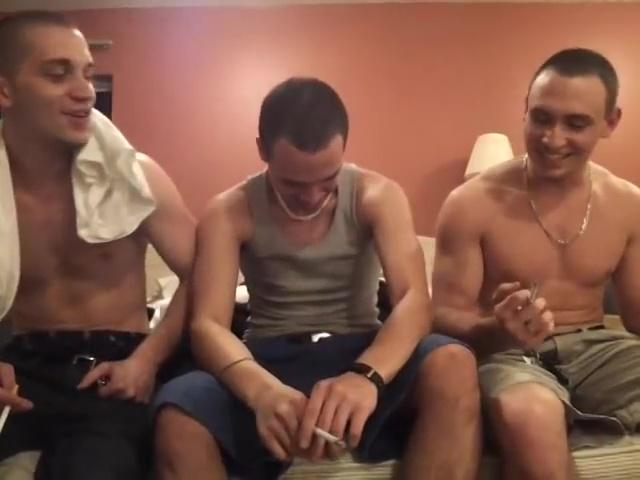cigarette: (312, 423, 351, 451), (0, 383, 20, 437), (528, 276, 540, 309)
